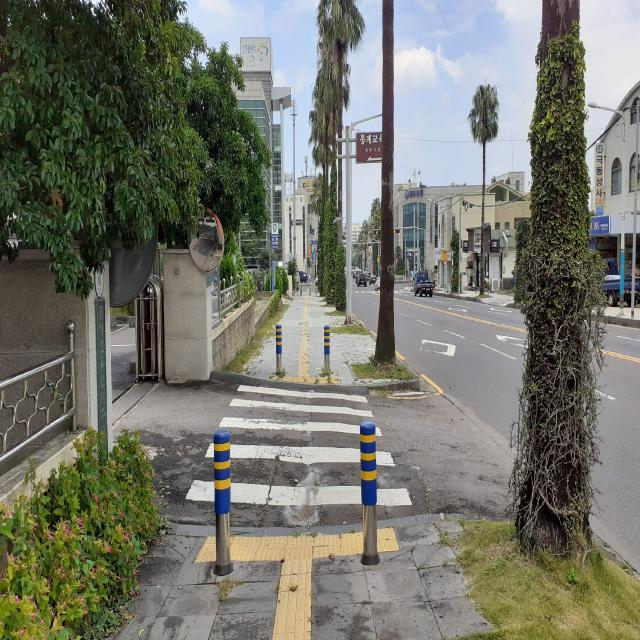횡단보도: (183, 381, 414, 508)
